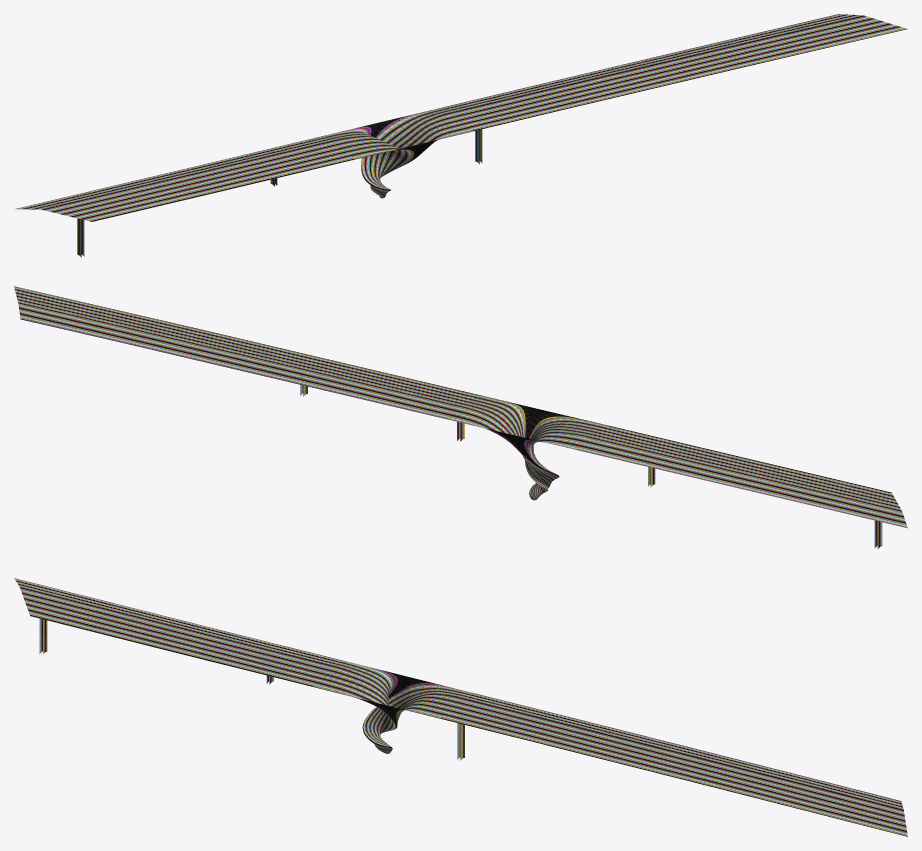
3 views of the same model, one above another, from view 1: azimuth 30°, elevation 25°; view 2: azimuth 150°, elevation 25°; view 3: azimuth 330°, elevation 25° (orthographic). The views are drawn at different scales.
Parts seen in each view (by area): view 1: Object024; view 2: Object024; view 3: Object024.
Boxes of the visible parts, x1=… form: Object024: x1=15, y1=14, x2=907, y2=257; Object024: x1=14, y1=286, x2=907, y2=549; Object024: x1=14, y1=578, x2=907, y2=836.
Bounding box in the file's own units: 106 × 8.4 × 6.82.
Materials: 1 (1 with a texture image).
